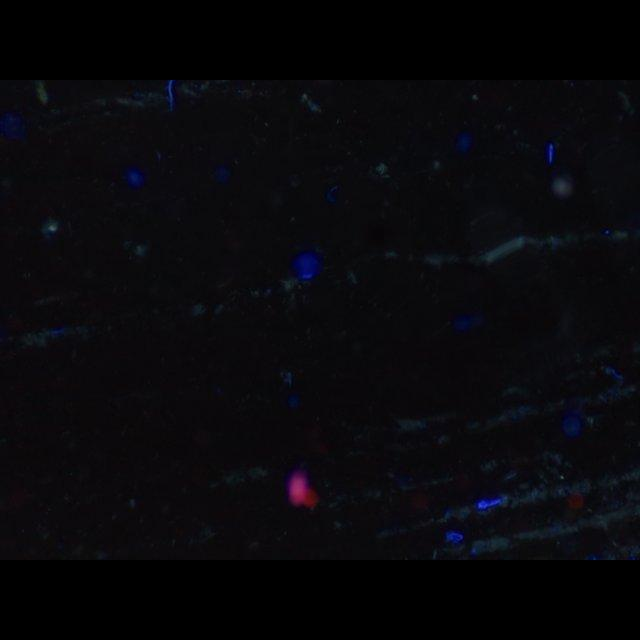microbeads: (550, 172, 578, 202)
